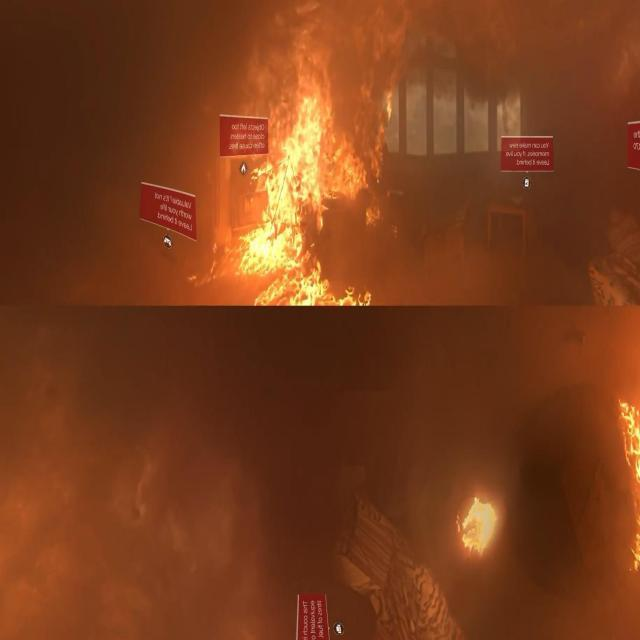smoke: (197, 54, 395, 308), (610, 366, 640, 578), (452, 479, 506, 566)
